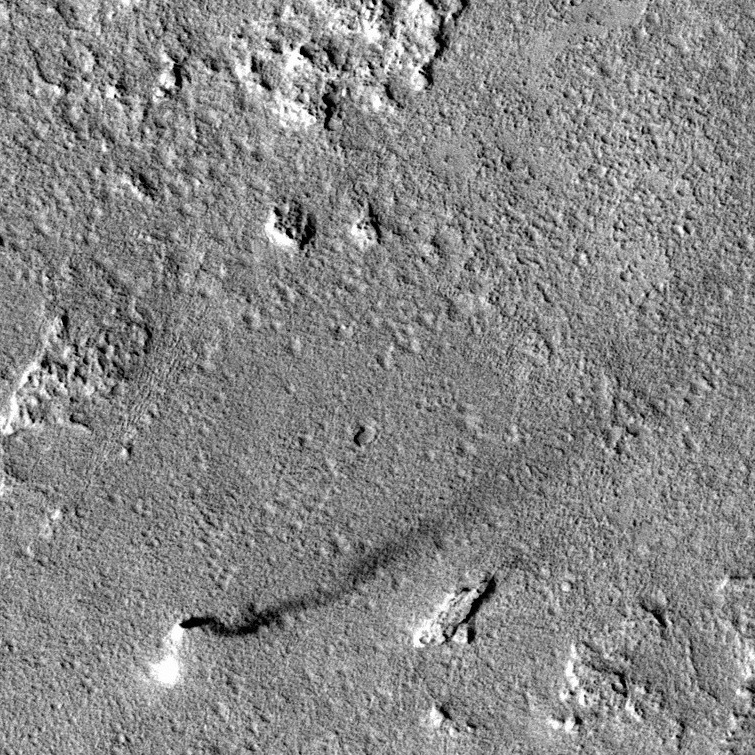dust_devil: (143, 481, 508, 694)
